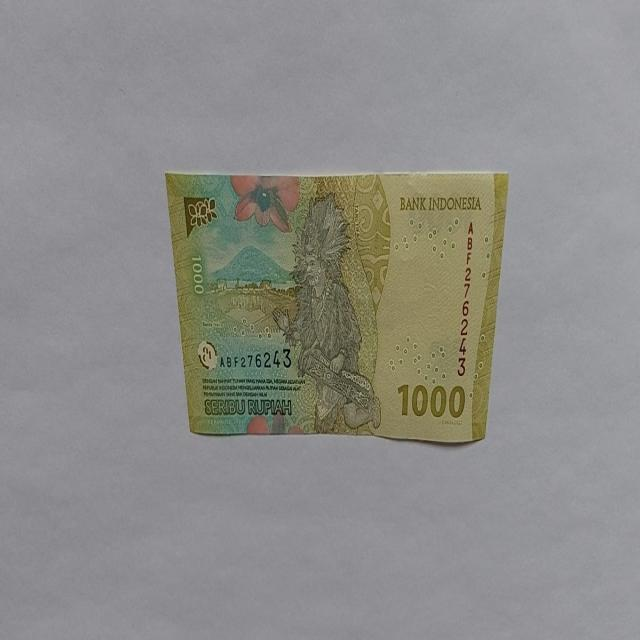seribu rupiah kertas: (164, 169, 509, 443)
